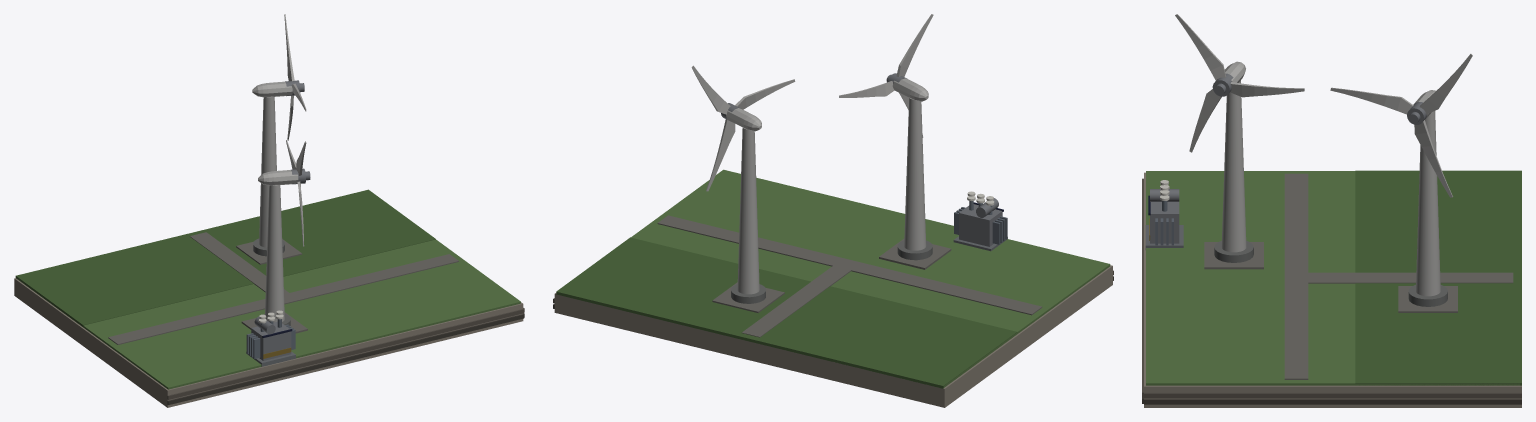
File: onshore_wind_farm_lvl1.glb
The picture shows the model from 3 angles, left to right: view 1: azimuth 30°, elevation 25°; view 2: azimuth 150°, elevation 25°; view 3: azimuth 270°, elevation 25°; orthographic projection. The views are drawn at different scales.
Visible parts, largest first — view 1: onshore_wind_farm; view 2: onshore_wind_farm; view 3: onshore_wind_farm.
Part boxes in pixels (left/top/right/bottom): onshore_wind_farm: left=14, top=14, right=524, bottom=407; onshore_wind_farm: left=553, top=14, right=1113, bottom=407; onshore_wind_farm: left=1142, top=14, right=1521, bottom=407.
Bounding box in the file's own units: 0.9835 × 0.6208 × 0.7352.
